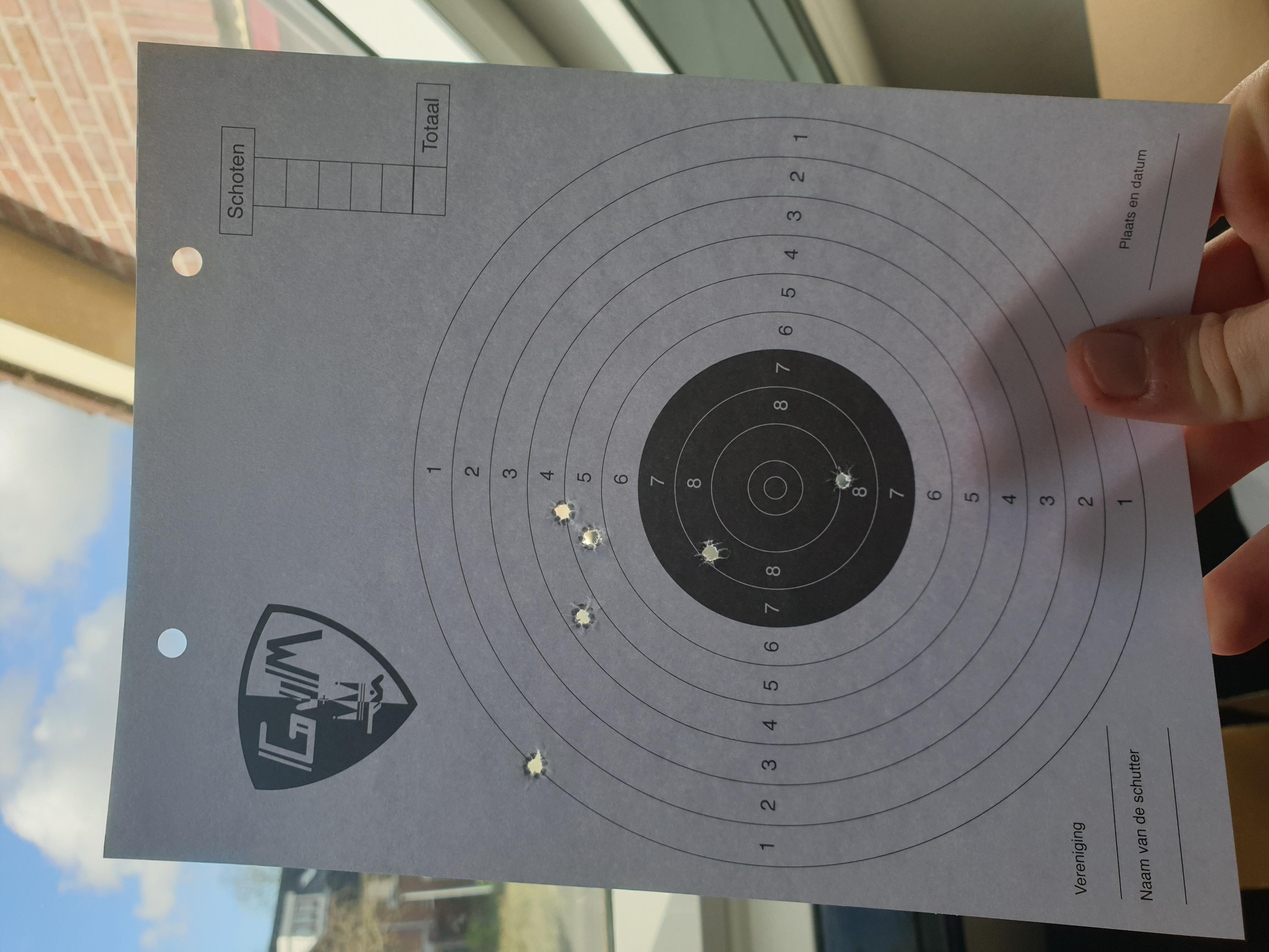hole: (560, 408, 607, 437), (604, 617, 651, 643), (423, 425, 469, 451), (223, 390, 269, 412), (507, 522, 550, 543), (528, 433, 569, 454)
